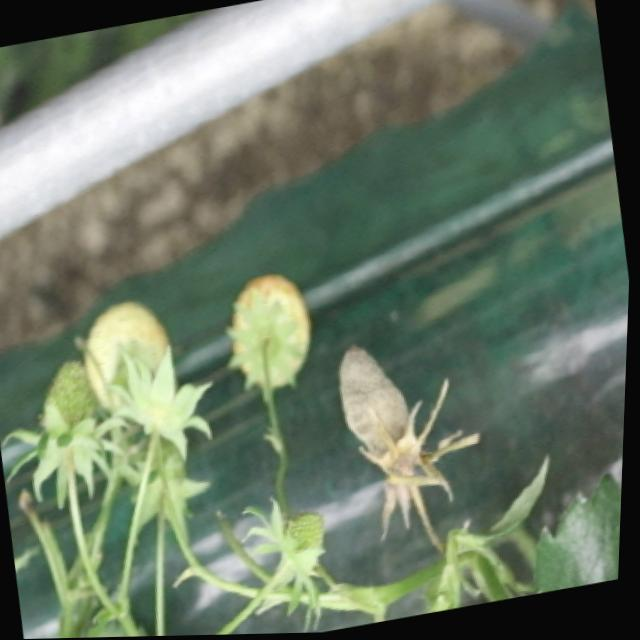Gray Mold: (340, 344, 480, 533)
